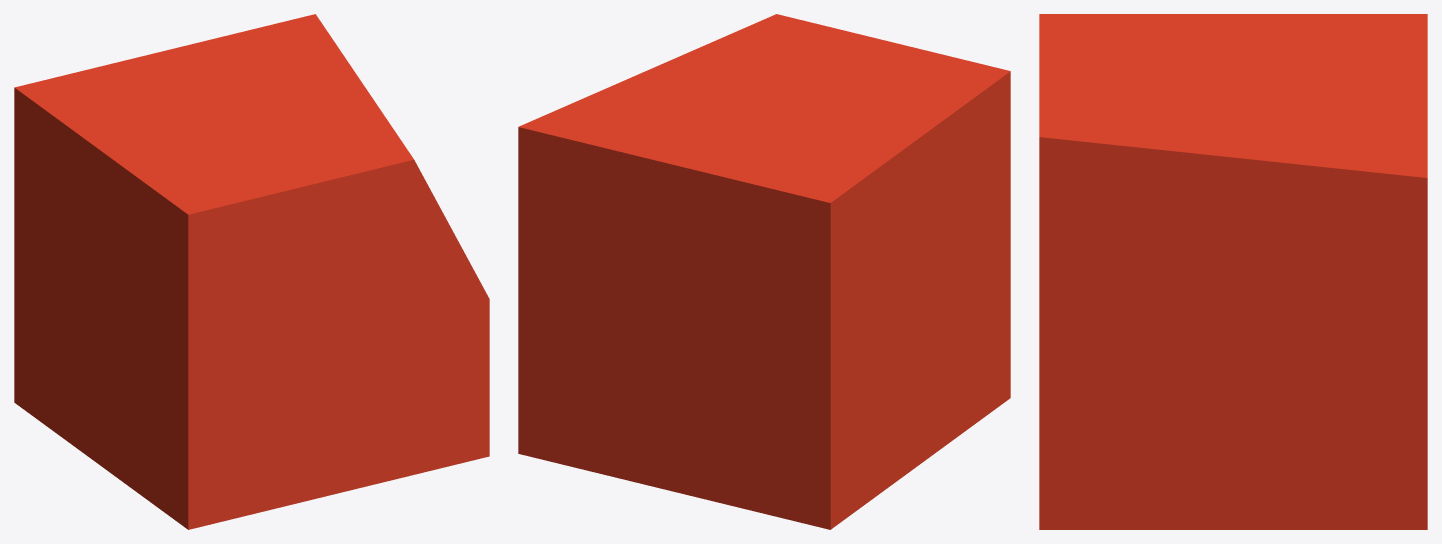
The model's file is r5c4_body_red.gltf.
The picture shows the model from 3 angles, left to right: view 1: azimuth 30°, elevation 25°; view 2: azimuth 150°, elevation 25°; view 3: azimuth 270°, elevation 25°; orthographic projection. The views are drawn at different scales.
Parts seen in each view (by area): view 1: r5c4_body_red; view 2: r5c4_body_red; view 3: r5c4_body_red.
Boxes of the visible parts, box(x1,y1,x2,y2) form: r5c4_body_red: box(14, 14, 489, 529); r5c4_body_red: box(518, 14, 1010, 529); r5c4_body_red: box(1039, 14, 1427, 529).
Bounding box in the file's own units: 2 × 2 × 2.
1 material, 1 textured.
